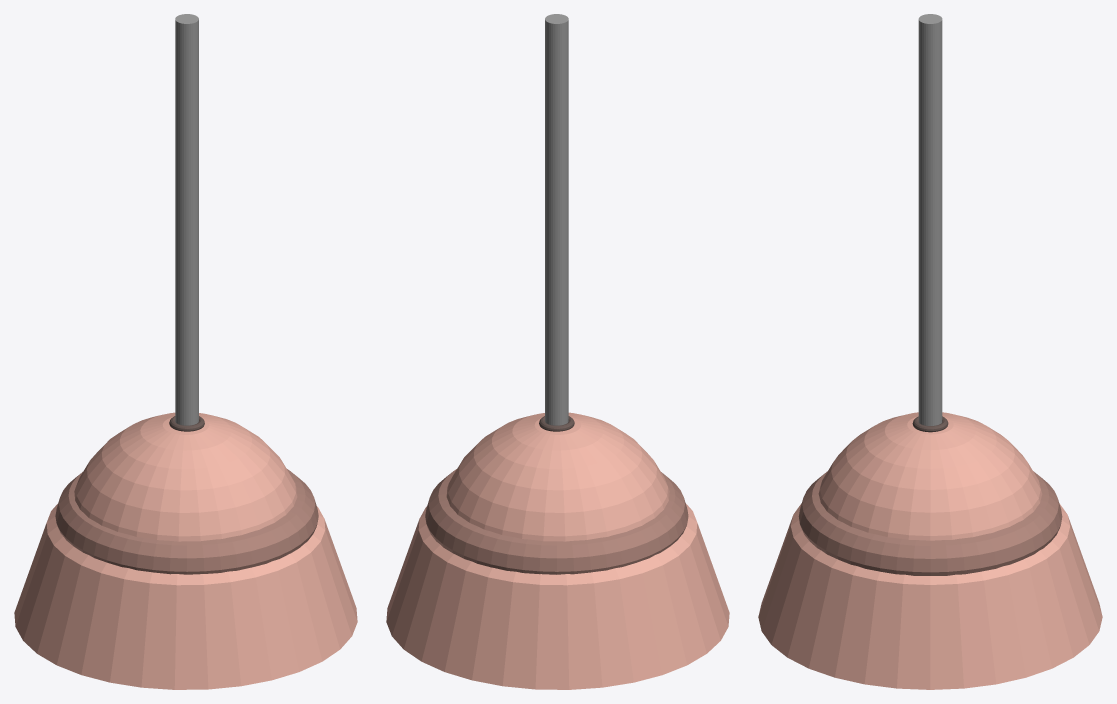
File: LightRed.fbx
3 views of the same model, side by side, from view 1: azimuth 30°, elevation 25°; view 2: azimuth 150°, elevation 25°; view 3: azimuth 270°, elevation 25° (orthographic).
Visible parts, largest first — view 1: Sphere, Torus.001, Cylinder; view 2: Sphere, Torus.001, Cylinder; view 3: Sphere, Torus.001, Cylinder.
Part boxes in pixels (box(x1,y1,x2,y2)): Sphere: box(14, 412, 357, 689); Torus.001: box(55, 469, 318, 574); Cylinder: box(175, 14, 198, 425); Sphere: box(386, 412, 729, 689); Torus.001: box(425, 469, 688, 574); Cylinder: box(545, 14, 568, 425); Sphere: box(758, 412, 1102, 689); Torus.001: box(798, 471, 1062, 575); Cylinder: box(918, 14, 942, 425).
Bounding box in the file's own units: 288 × 590 × 288.
